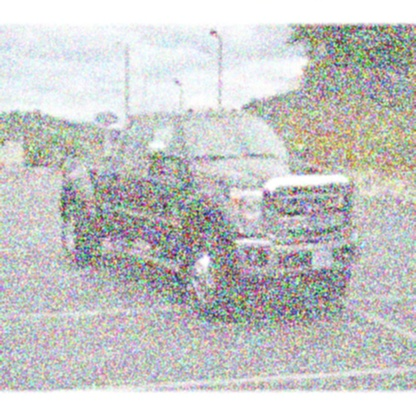Vehicle: (63, 112, 365, 324)
